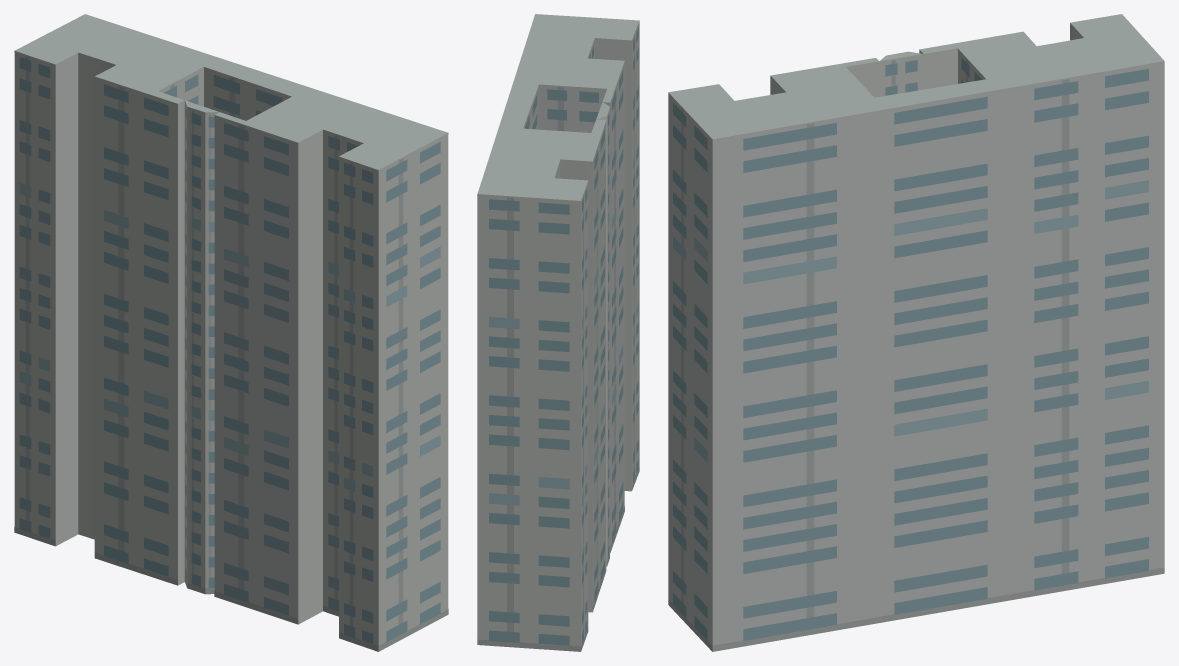
File: residential-ac542e59-1ad0-491c-867b-2105ae4abb06.glb
3 views of the same model, side by side, from view 1: azimuth 30°, elevation 25°; view 2: azimuth 150°, elevation 25°; view 3: azimuth 270°, elevation 25° (orthographic). The views are drawn at different scales.
Parts seen in each view (by area): view 1: residential-ac542e59-1ad0-491c-867b-2105ae4abb06.tmp; view 2: residential-ac542e59-1ad0-491c-867b-2105ae4abb06.tmp; view 3: residential-ac542e59-1ad0-491c-867b-2105ae4abb06.tmp.
Boxes of the visible parts, x1,y1,x2,y2 form: residential-ac542e59-1ad0-491c-867b-2105ae4abb06.tmp: (14, 14, 448, 651); residential-ac542e59-1ad0-491c-867b-2105ae4abb06.tmp: (477, 14, 639, 651); residential-ac542e59-1ad0-491c-867b-2105ae4abb06.tmp: (668, 14, 1164, 651).
Bounding box in the file's own units: 43.54 × 83 × 72.86.
